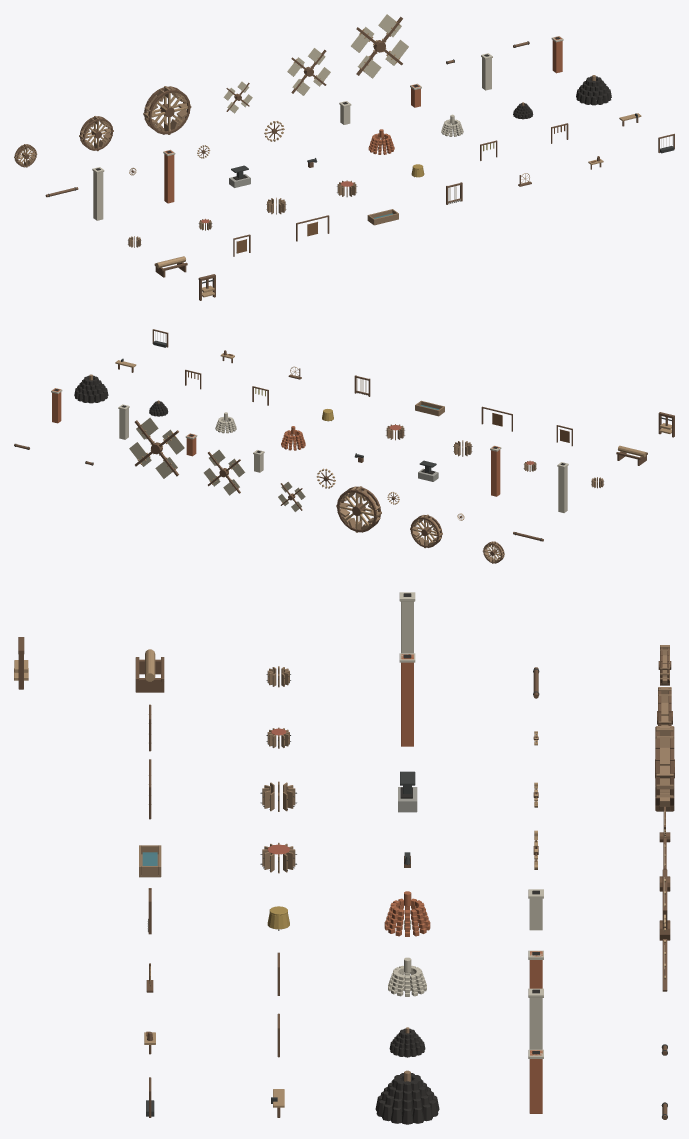
Rendered from production.glb.
3 views of the same model, one above another, from view 1: azimuth 30°, elevation 25°; view 2: azimuth 150°, elevation 25°; view 3: azimuth 270°, elevation 25° (orthographic). The views are drawn at different scales.
Visible parts, largest first — view 1: GK_production_waterwheel_d5m, GK_production_windmill_sails_8m, GK_production_windmill_sails_6m, GK_production_waterwheel_d3p6m, GK_production_charcoal_clamp_large, GK_production_chimney_limestone_h6m, GK_production_chimney_brick_h6m, GK_production_potter_kiln_round; view 2: GK_production_waterwheel_d5m, GK_production_windmill_sails_8m, GK_production_windmill_sails_6m, GK_production_waterwheel_d3p6m, GK_production_charcoal_clamp_large, GK_production_chimney_limestone_h6m, GK_production_chimney_brick_h6m, GK_production_potter_kiln_round, GK_production_windmill_sails_4m, GK_production_waterwheel_d2p4m; view 3: GK_production_charcoal_clamp_large, GK_production_waterwheel_d5m, GK_production_potter_kiln_round, GK_production_chimney_brick_h6m, GK_production_sawpit_frame, GK_production_bakery_oven, GK_production_chimney_brick_h4m, GK_production_chimney_limestone_h4m, GK_production_windmill_sails_8m, GK_production_chimney_limestone_h6m, GK_production_charcoal_clamp_small.
Boxes of the visible parts, x1,y1,x2,y2 form: GK_production_waterwheel_d5m: [143, 86, 191, 134]; GK_production_windmill_sails_8m: [351, 14, 408, 78]; GK_production_windmill_sails_6m: [287, 48, 330, 95]; GK_production_waterwheel_d3p6m: [79, 116, 113, 151]; GK_production_charcoal_clamp_large: [576, 75, 611, 105]; GK_production_chimney_limestone_h6m: [92, 167, 104, 220]; GK_production_chimney_brick_h6m: [163, 149, 175, 203]; GK_production_potter_kiln_round: [368, 129, 394, 154]; GK_production_waterwheel_d5m: [336, 486, 381, 532]; GK_production_windmill_sails_8m: [129, 417, 184, 478]; GK_production_windmill_sails_6m: [203, 449, 245, 495]; GK_production_waterwheel_d3p6m: [410, 514, 442, 548]; GK_production_charcoal_clamp_large: [74, 374, 108, 403]; GK_production_chimney_limestone_h6m: [557, 462, 568, 512]; GK_production_chimney_brick_h6m: [490, 445, 501, 496]; GK_production_potter_kiln_round: [281, 426, 305, 450]; GK_production_windmill_sails_4m: [278, 481, 305, 511]; GK_production_waterwheel_d2p4m: [482, 541, 504, 563]; GK_production_charcoal_clamp_large: [375, 1070, 439, 1124]; GK_production_waterwheel_d5m: [655, 726, 674, 811]; GK_production_potter_kiln_round: [384, 891, 430, 936]; GK_production_chimney_brick_h6m: [399, 653, 415, 746]; GK_production_sawpit_frame: [135, 649, 164, 692]; GK_production_bakery_oven: [388, 957, 426, 996]; GK_production_chimney_brick_h4m: [528, 1049, 543, 1113]; GK_production_chimney_limestone_h4m: [528, 988, 543, 1049]; GK_production_windmill_sails_8m: [659, 869, 670, 991]; GK_production_chimney_limestone_h6m: [399, 592, 415, 653]; GK_production_charcoal_clamp_small: [389, 1027, 425, 1057].
Size of the model in its own units: 67 by 7.97 by 41.09.
